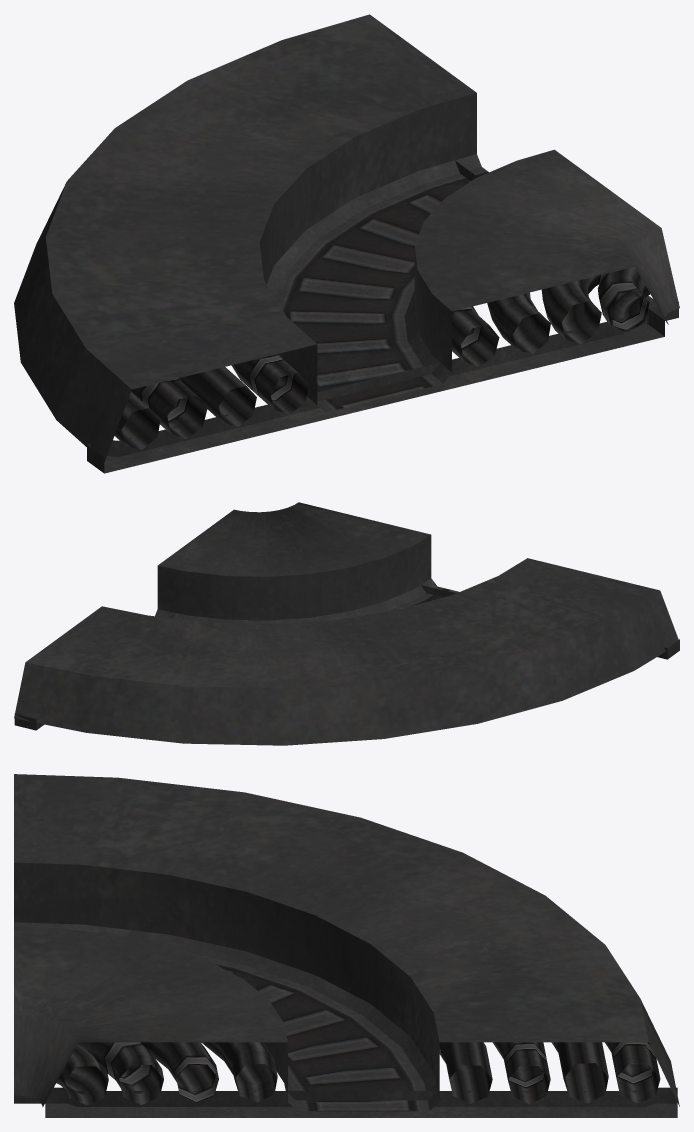
Rendered from lab_cable_ladder_turn_inner.dae.
3 renders of one model, top to bottom at view 1: azimuth 30°, elevation 25°; view 2: azimuth 150°, elevation 25°; view 3: azimuth 270°, elevation 25°, orthographic. The views are drawn at different scales.
Visible parts, largest first — view 1: lab_cable_ladder_turn_inner; view 2: lab_cable_ladder_turn_inner; view 3: lab_cable_ladder_turn_inner.
Part boxes in pixels (<box>): lab_cable_ladder_turn_inner: <box>14,14,679,473</box>; lab_cable_ladder_turn_inner: <box>14,502,679,745</box>; lab_cable_ladder_turn_inner: <box>14,774,679,1117</box>.
Bounding box in the file's own units: 1.92 × 0.2398 × 1.92.
